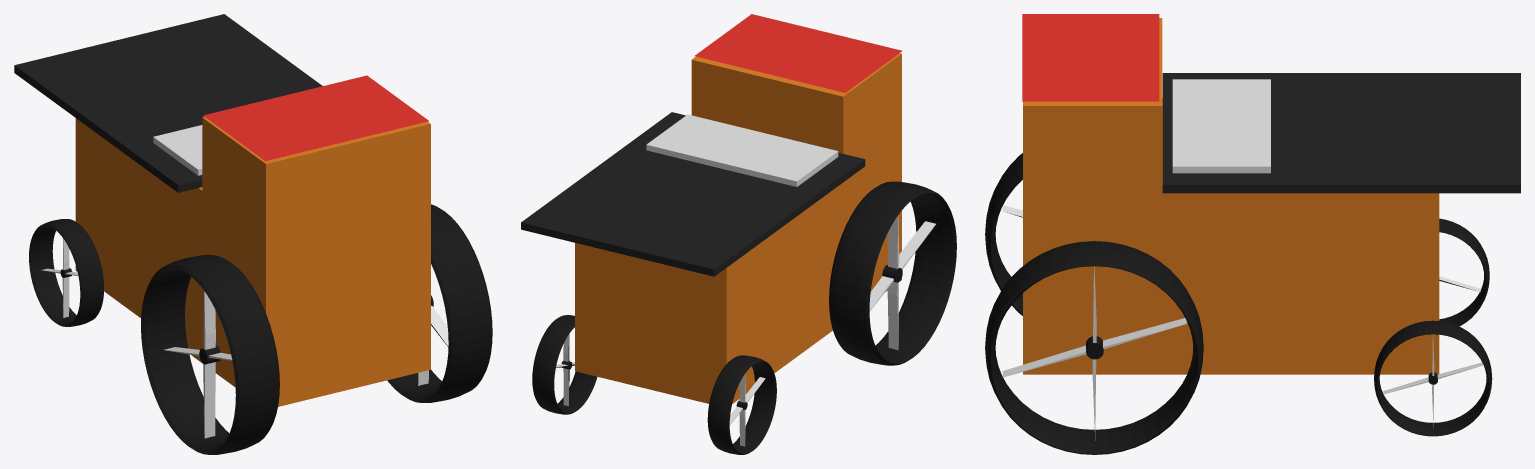
3 views of the same model, side by side, from view 1: azimuth 30°, elevation 25°; view 2: azimuth 150°, elevation 25°; view 3: azimuth 270°, elevation 25° (orthographic). The views are drawn at different scales.
Visible parts, largest first — view 1: Куб.003, Куб.002, Torus.008, Плоскость, Torus.001, Torus.007; view 2: Куб.003, Куб.002, Torus.008, Плоскость, Torus.007, Torus.006; view 3: Куб.003, Куб.002, Torus.001, Плоскость, Torus.006, Torus.008, Torus.007.
Boxes of the visible parts, <box> form: Куб.003: <box>75,117,430,406</box>; Куб.002: <box>14,14,322,192</box>; Torus.008: <box>141,255,279,454</box>; Плоскость: <box>203,75,429,160</box>; Torus.001: <box>387,204,492,402</box>; Torus.007: <box>29,219,103,326</box>; Куб.003: <box>575,53,901,403</box>; Куб.002: <box>521,112,865,276</box>; Torus.008: <box>829,181,956,365</box>; Плоскость: <box>694,14,902,92</box>; Torus.007: <box>707,355,776,454</box>; Torus.006: <box>532,315,597,414</box>; Куб.003: <box>1023,18,1439,374</box>; Куб.002: <box>1162,73,1520,193</box>; Torus.001: <box>985,241,1203,454</box>; Плоскость: <box>1022,14,1159,101</box>; Torus.006: <box>1374,320,1492,436</box>; Torus.008: <box>985,153,1022,315</box>; Torus.007: <box>1439,218,1489,326</box>.
Bounding box in the file's own units: 3.12 × 3.51 × 5.15.
